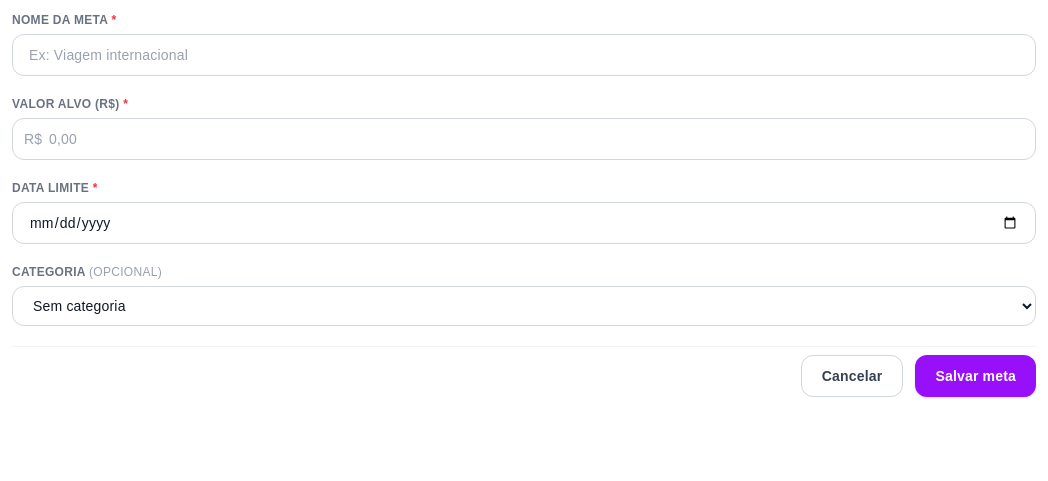
GoalForm › validação dos campos obrigatórios › deve exibir erro de nome quando campo está vazio
The width and height of the screenshot is (1048, 481).
Click the button "Salvar meta": x=976, y=376 [915,355,1036,397]
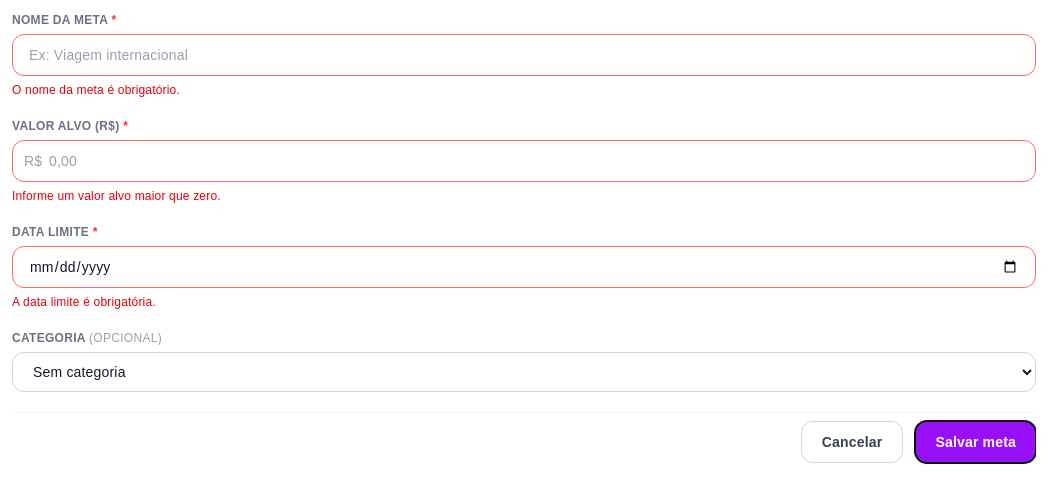
Check: the text "O nome da meta é obrigatório." is shown, box [12,83,180,97]
